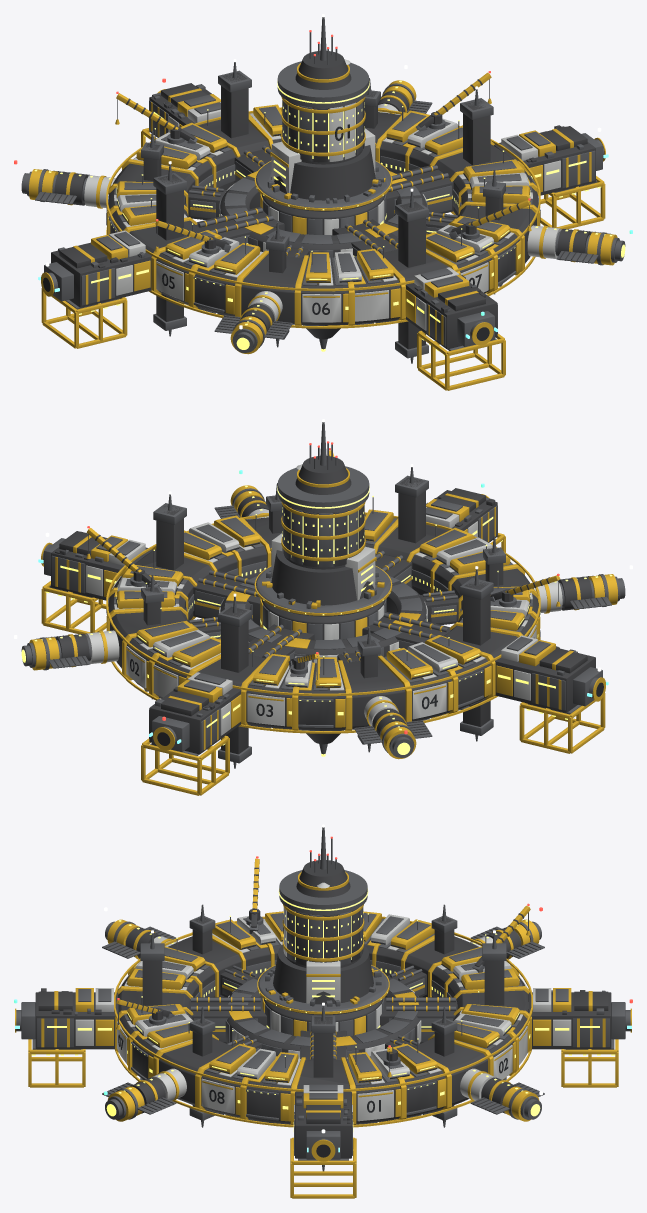
3 views of the same model, one above another, from view 1: azimuth 30°, elevation 25°; view 2: azimuth 150°, elevation 25°; view 3: azimuth 270°, elevation 25° (orthographic). The views are drawn at different scales.
Visible parts, largest first — view 1: OS01_Coque; view 2: OS01_Coque; view 3: OS01_Coque.
Boxes of the visible parts, x1,y1,x2,y2 form: OS01_Coque: (14,14,632,390); OS01_Coque: (14,419,632,795); OS01_Coque: (14,824,632,1198).
Size of the model in its own units: 434 by 252 by 434.
